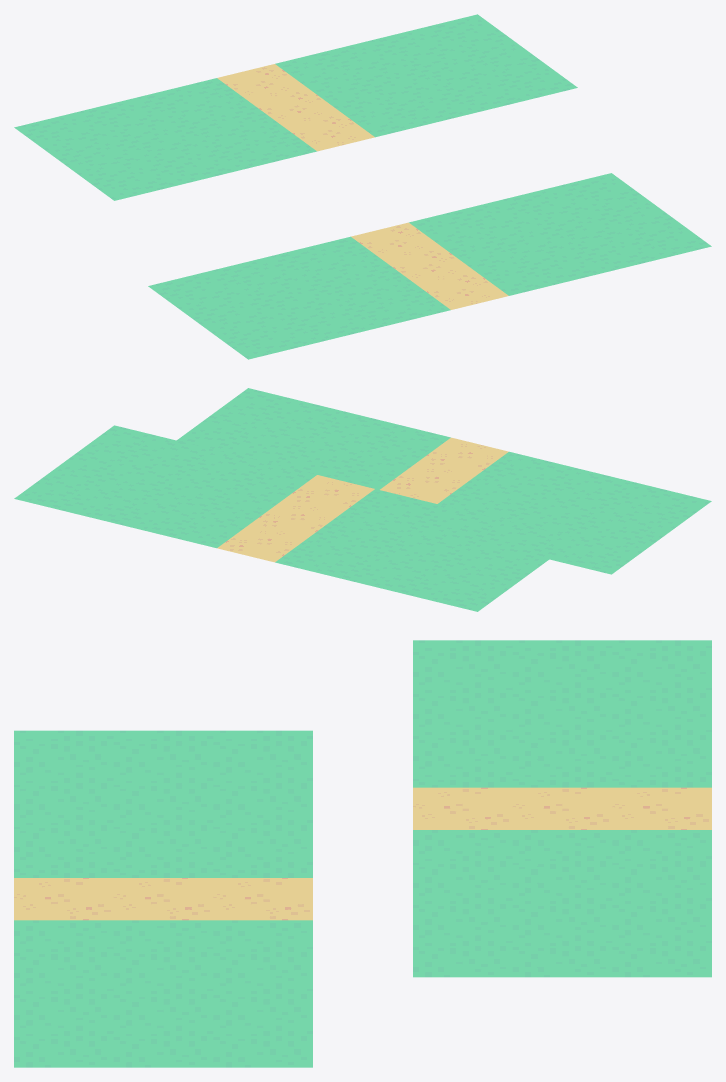
The model's file is terrain.glb.
3 views of the same model, one above another, from view 1: azimuth 30°, elevation 25°; view 2: azimuth 150°, elevation 25°; view 3: azimuth 270°, elevation 25° (orthographic). The views are drawn at different scales.
Size of the model in its own units: 16 by 2 by 14.
Materials: 2 (2 with a texture image).
